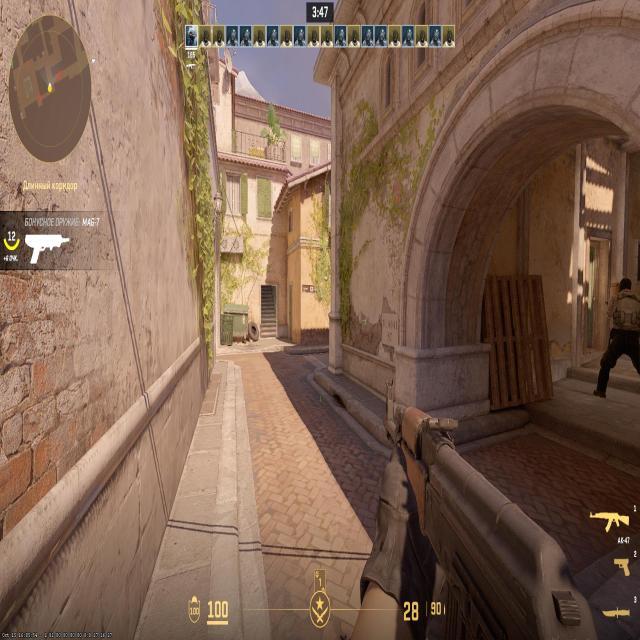T: (617, 277, 636, 360)
T_heat: (621, 284, 628, 297)
